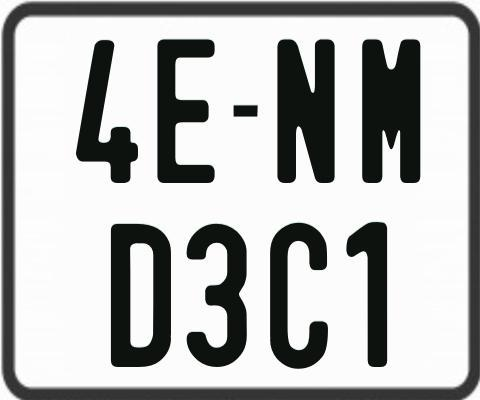1: (346, 219, 387, 367)
3: (186, 222, 252, 368)
4: (74, 38, 139, 187)
C: (269, 223, 333, 371)
D: (111, 222, 177, 366)
E: (156, 37, 219, 186)
M: (360, 37, 419, 187)
N: (275, 37, 338, 185)
